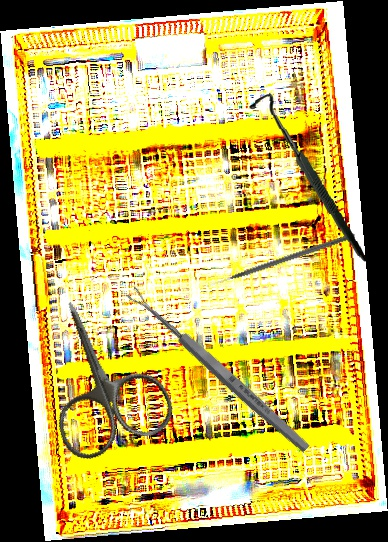Hook Surgical: (248, 87, 367, 270), (205, 231, 356, 290)
Iris Scissors: (16, 280, 181, 467)
Surgical Spoon: (125, 285, 313, 455)
